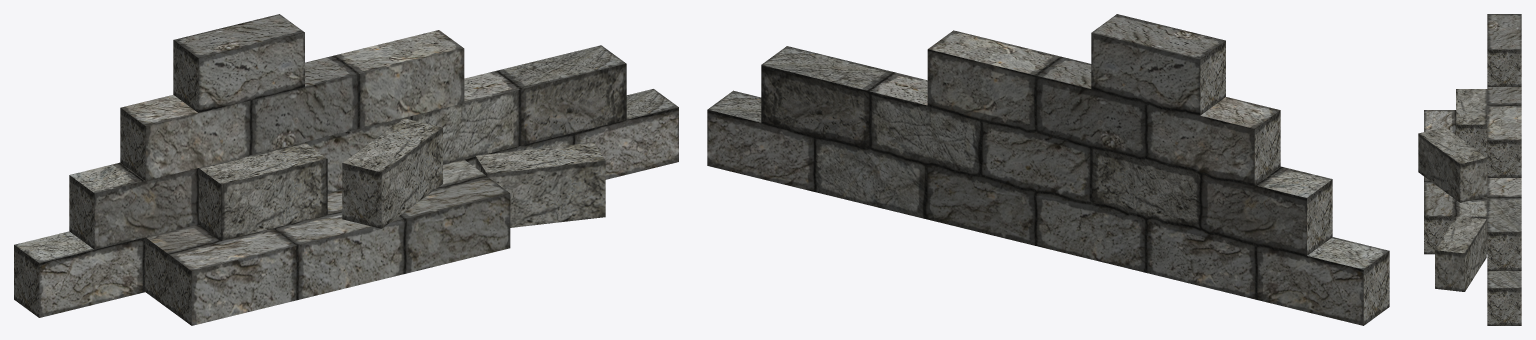
File: Bricks.fbx
3 views of the same model, side by side, from view 1: azimuth 30°, elevation 25°; view 2: azimuth 150°, elevation 25°; view 3: azimuth 270°, elevation 25° (orthographic). The views are drawn at different scales.
Parts seen in each view (by area): view 1: Mesh; view 2: Mesh; view 3: Mesh.
Boxes of the visible parts, box(x1,y1,x2,y2) form: Mesh: box(14, 14, 678, 325); Mesh: box(707, 14, 1389, 325); Mesh: box(1418, 14, 1521, 325).
Size of the model in its own units: 440 by 145 by 89.94.
